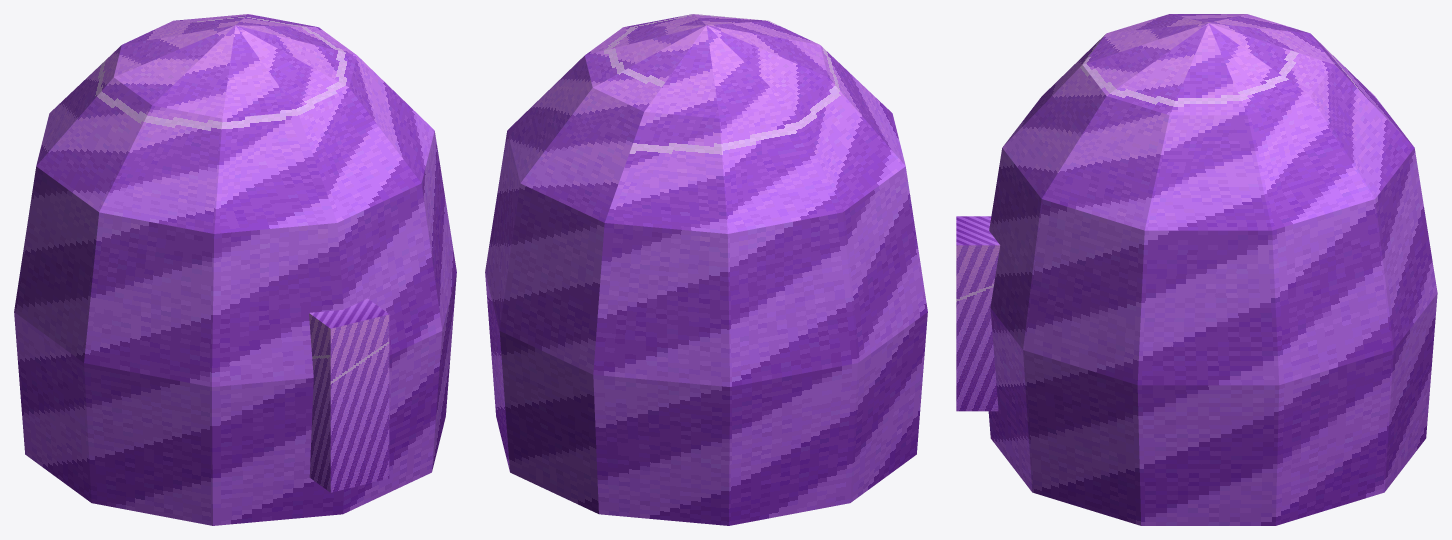
The model's file is capacete_de_ametista.glb.
3 renders of one model, left to right at view 1: azimuth 30°, elevation 25°; view 2: azimuth 150°, elevation 25°; view 3: azimuth 270°, elevation 25°, orthographic.
Parts seen in each view (by area): view 1: capacete_de_ametista; view 2: capacete_de_ametista; view 3: capacete_de_ametista.
Boxes of the visible parts, x1,y1,x2,y2 form: capacete_de_ametista: (14, 14, 456, 525); capacete_de_ametista: (485, 14, 927, 525); capacete_de_ametista: (956, 14, 1437, 525).
Bounding box in the file's own units: 0.3804 × 0.4 × 0.42.
Materials: 1 (1 with a texture image).
